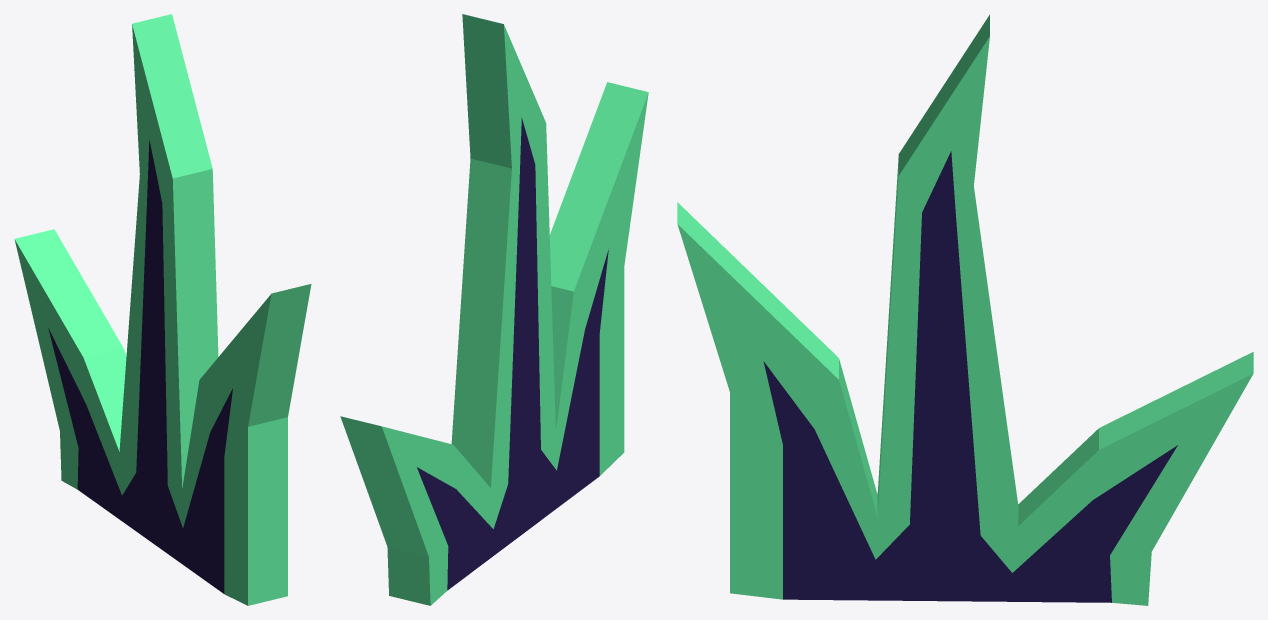
File: Grass.fbx
3 renders of one model, left to right at view 1: azimuth 30°, elevation 25°; view 2: azimuth 150°, elevation 25°; view 3: azimuth 270°, elevation 25°, orthographic. The views are drawn at different scales.
Parts seen in each view (by area): view 1: Плоскость.002; view 2: Плоскость.002; view 3: Плоскость.002.
Boxes of the visible parts, box(x1,y1,x2,y2) form: Плоскость.002: box(14, 14, 311, 605); Плоскость.002: box(340, 14, 648, 605); Плоскость.002: box(677, 14, 1253, 605).
Bounding box in the file's own units: 4.6 × 55.92 × 51.24.
